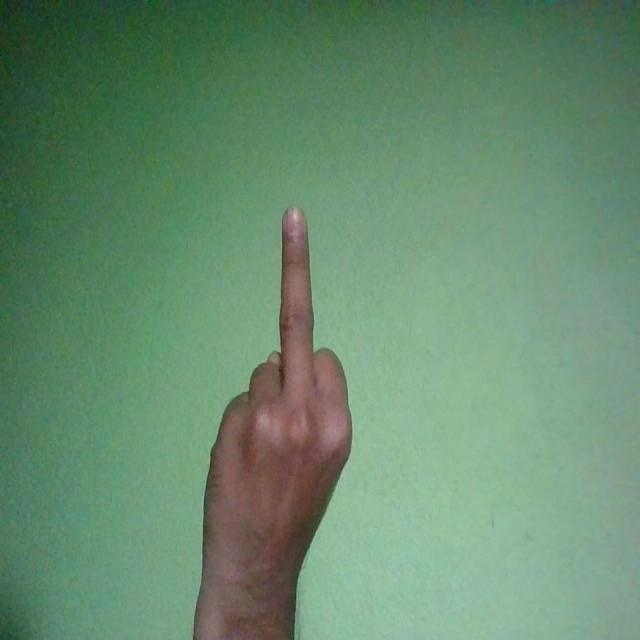Middle Finger: (201, 207, 353, 620)
